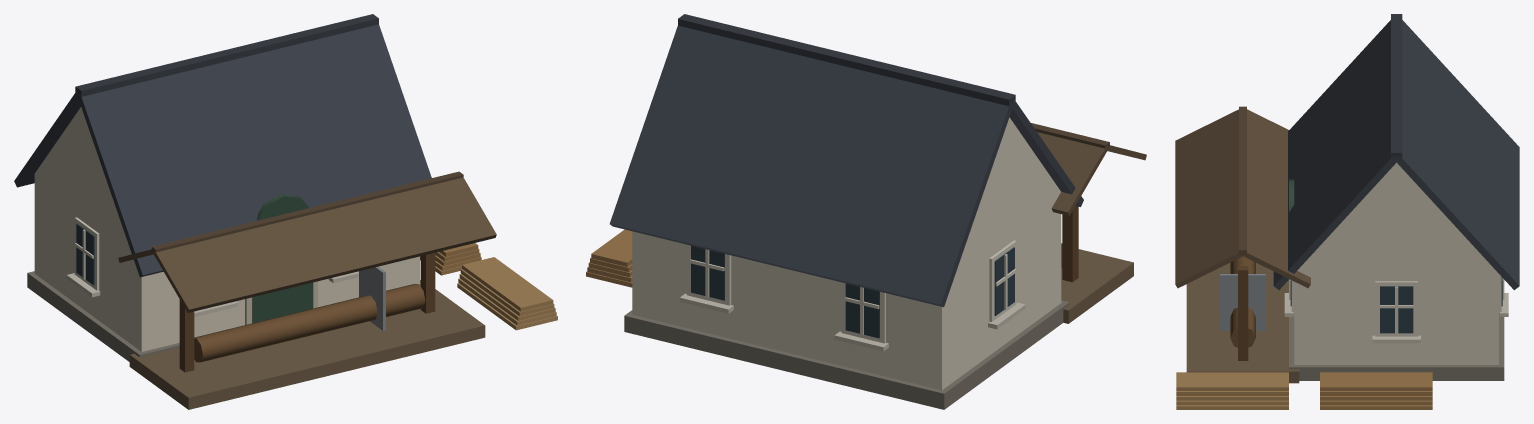
The model's file is procedural_saw@4.glb.
3 views of the same model, side by side, from view 1: azimuth 30°, elevation 25°; view 2: azimuth 150°, elevation 25°; view 3: azimuth 270°, elevation 25° (orthographic). The views are drawn at different scales.
Visible parts, largest first — view 1: part_0; view 2: part_0; view 3: part_0.
Part boxes in pixels (<box>): part_0: <box>14,14,557,409</box>; part_0: <box>586,14,1146,409</box>; part_0: <box>1175,14,1519,409</box>.
Bounding box in the file's own units: 7.97 × 4.97 × 6.73.
